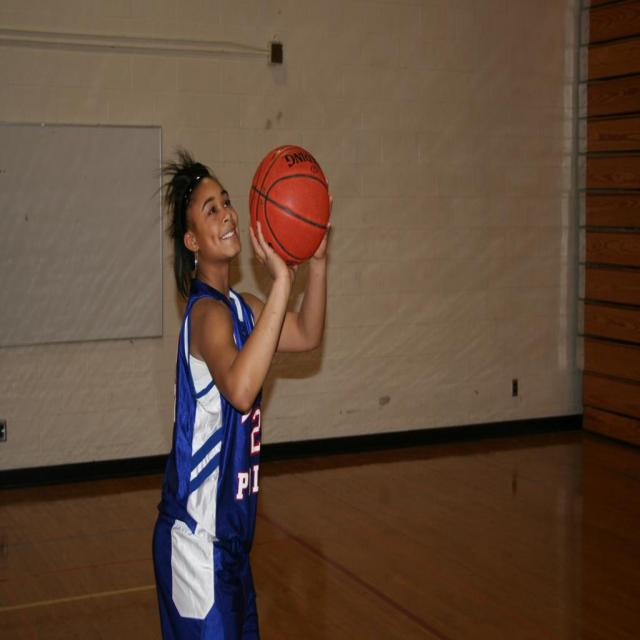Face: (191, 173, 246, 267)
